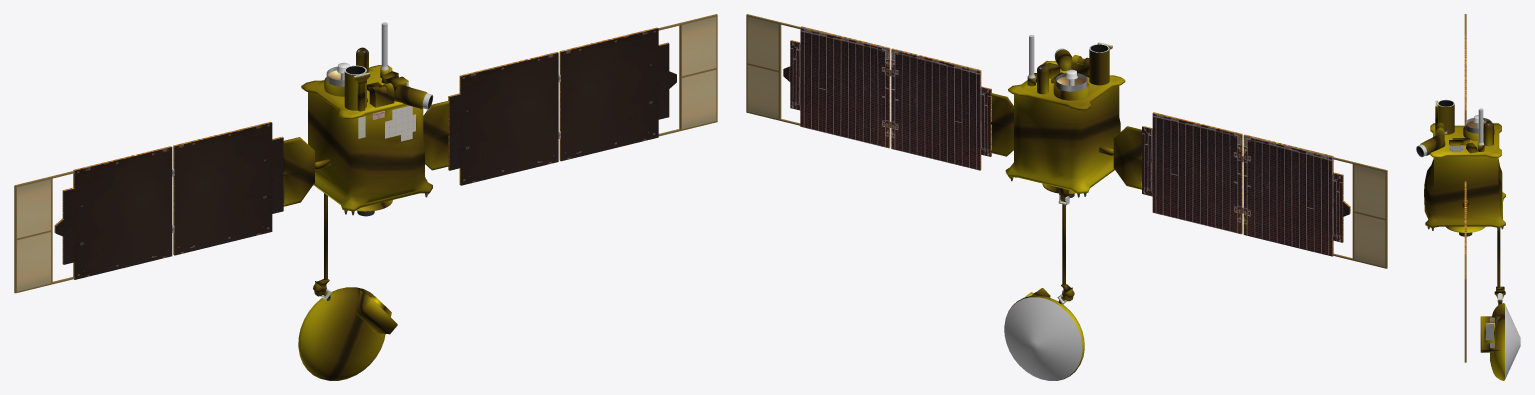
File: mgs_lod0.glb
The picture shows the model from 3 angles, left to right: view 1: azimuth 30°, elevation 25°; view 2: azimuth 150°, elevation 25°; view 3: azimuth 270°, elevation 25°; orthographic projection. The views are drawn at different scales.
Parts seen in each view (by area): view 1: mgs_lod0; view 2: mgs_lod0; view 3: mgs_lod0.
Boxes of the visible parts, x1,y1,x2,y2 form: mgs_lod0: [14, 14, 717, 380]; mgs_lod0: [746, 14, 1387, 380]; mgs_lod0: [1416, 14, 1520, 380].
Size of the model in its own units: 12.3 by 6.02 by 2.05.
Materials: 8 (5 with a texture image).
